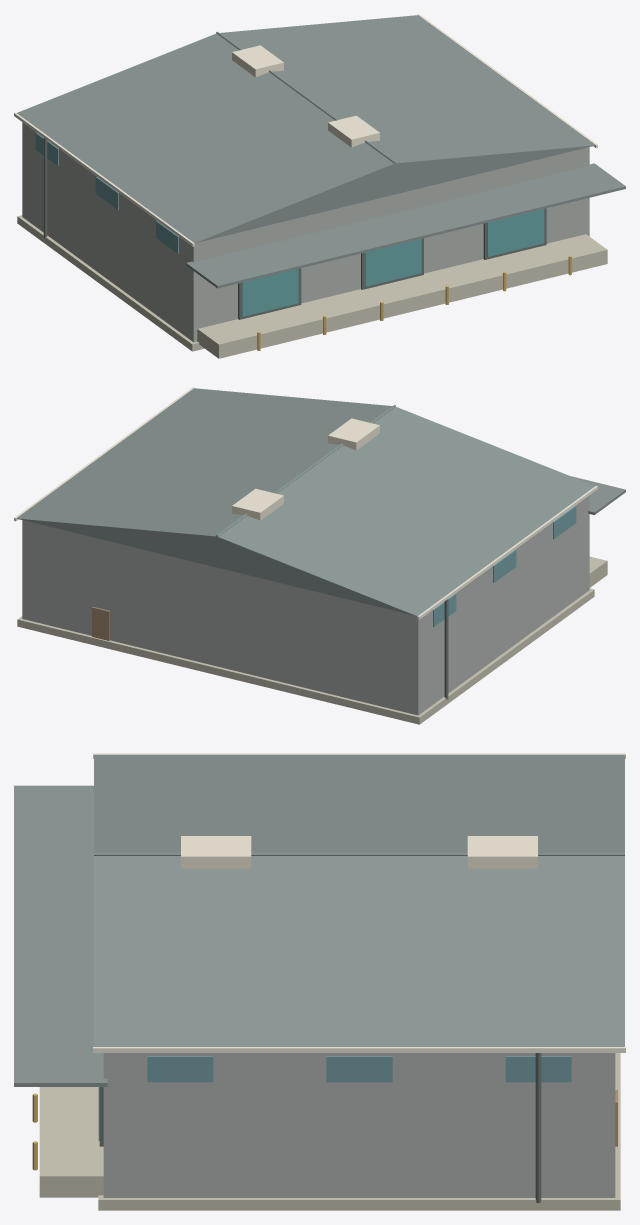
3 renders of one model, top to bottom at view 1: azimuth 30°, elevation 25°; view 2: azimuth 150°, elevation 25°; view 3: azimuth 270°, elevation 25°, orthographic. The views are drawn at different scales.
Size of the model in its own units: 33 by 11.28 by 28.7.
